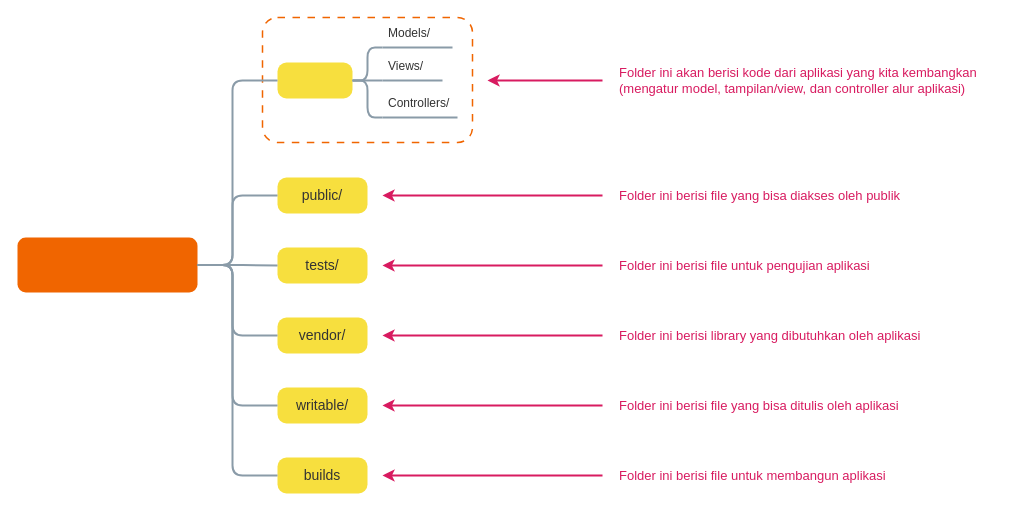
This 1014x511 diagram has some shape labels left out. The shapes that lost their labels are listed below. From the top down, each one's box as (x1, y1, x2, y2) in pixels, then its label:
(277, 62, 352, 98): app/
(17, 237, 197, 292): p8-akademik-ci4/
